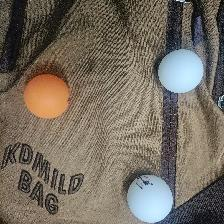WhiteBall: (125, 174, 173, 223), (156, 48, 204, 93)
YellowBall: (23, 73, 69, 119)
